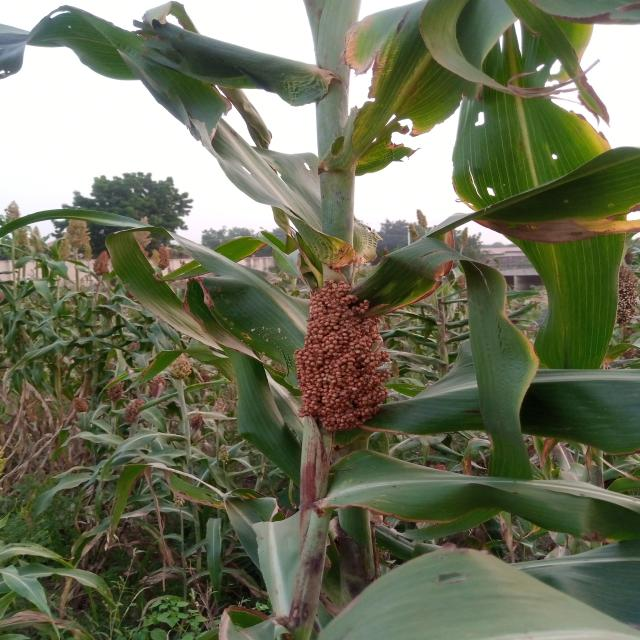RipeSorghum: (265, 271, 415, 425)
